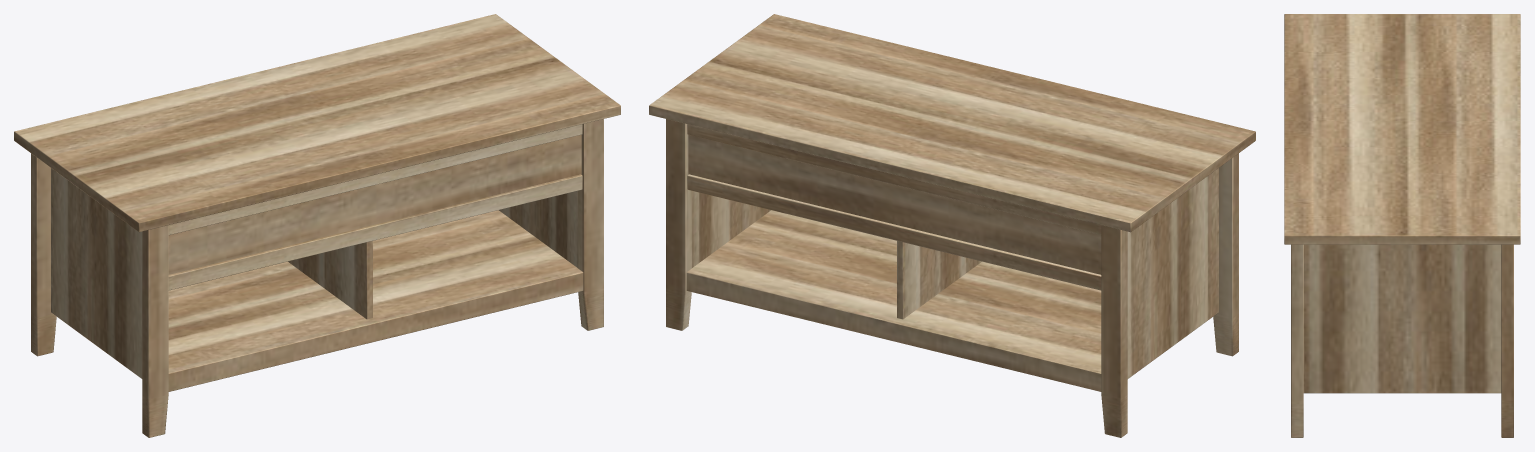
3 renders of one model, left to right at view 1: azimuth 30°, elevation 25°; view 2: azimuth 150°, elevation 25°; view 3: azimuth 270°, elevation 25°, orthographic. The views are drawn at different scales.
Parts seen in each view (by area): view 1: B07L85XV75; view 2: B07L85XV75; view 3: B07L85XV75.
Boxes of the visible parts, x1,y1,x2,y2 form: B07L85XV75: (14, 14, 620, 437); B07L85XV75: (649, 14, 1255, 437); B07L85XV75: (1284, 14, 1520, 437).
Bounding box in the file's own units: 1.09 × 0.4801 × 0.4928.
Materials: 1 (1 with a texture image).
